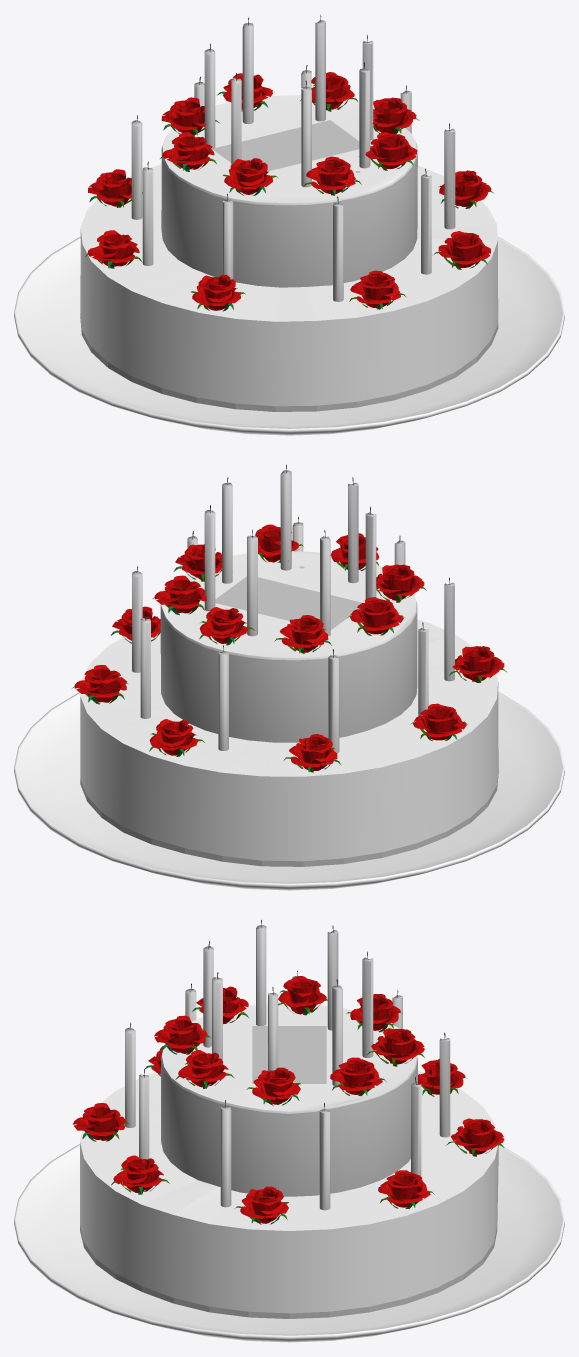
File: F_tort.FBX
3 renders of one model, top to bottom at view 1: azimuth 30°, elevation 25°; view 2: azimuth 150°, elevation 25°; view 3: azimuth 270°, elevation 25°, orthographic.
Parts seen in each view (by area): view 1: cake001; view 2: cake001; view 3: cake001.
Part boxes in pixels (x1,y1,x2,y2): cake001: [14, 15, 564, 435]; cake001: [14, 465, 564, 890]; cake001: [14, 920, 564, 1342].
Bounding box in the file's own units: 0.00217 × 0.00125 × 0.00217.
